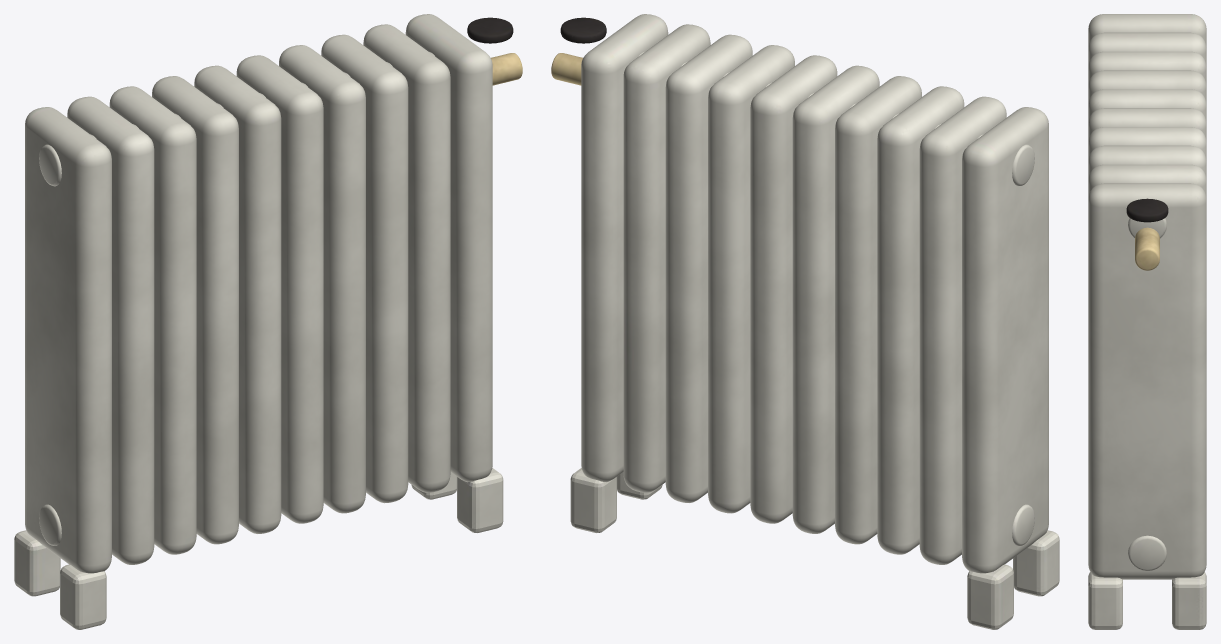
Rendered from np_radiator_1k.fbx.
3 views of the same model, side by side, from view 1: azimuth 30°, elevation 25°; view 2: azimuth 150°, elevation 25°; view 3: azimuth 270°, elevation 25° (orthographic). The views are drawn at different scales.
Parts seen in each view (by area): view 1: np_radiator; view 2: np_radiator; view 3: np_radiator.
Boxes of the visible parts, x1,y1,x2,y2 form: np_radiator: (14, 14, 522, 629); np_radiator: (551, 14, 1059, 629); np_radiator: (1088, 14, 1206, 629).
Size of the model in its own units: 0.715 by 0.69 by 0.17.
Materials: 1 (1 with a texture image).
